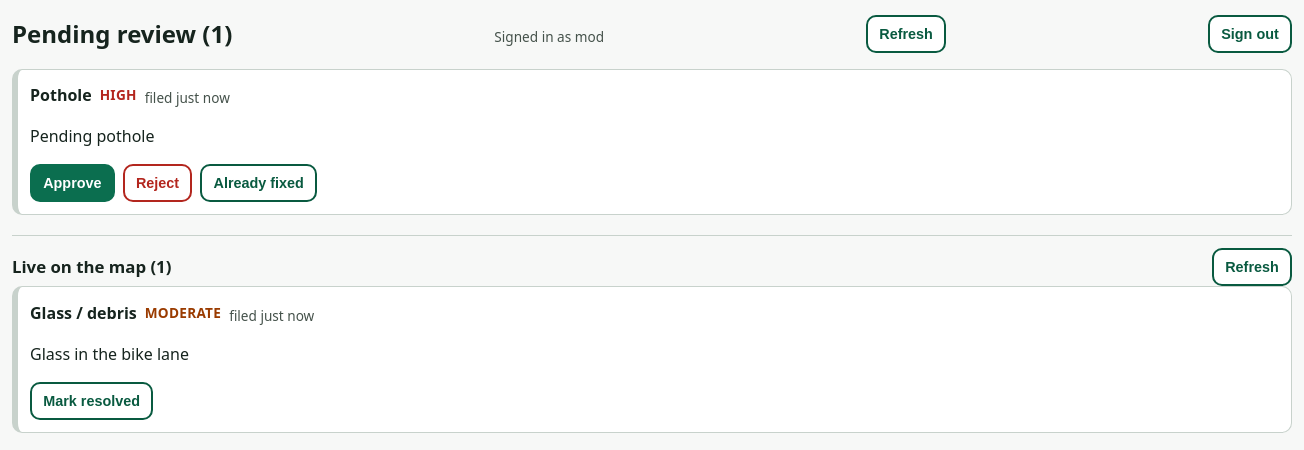
Test case: ModerationPanel — resolve (#140) › offers "Already fixed" on a PENDING report too (pending → resolved is legal)
Expected: the text "Pending pothole" is shown, 30,125 -> 154,147
Click the button "Already fixed": (259, 183) 200,164 -> 317,202
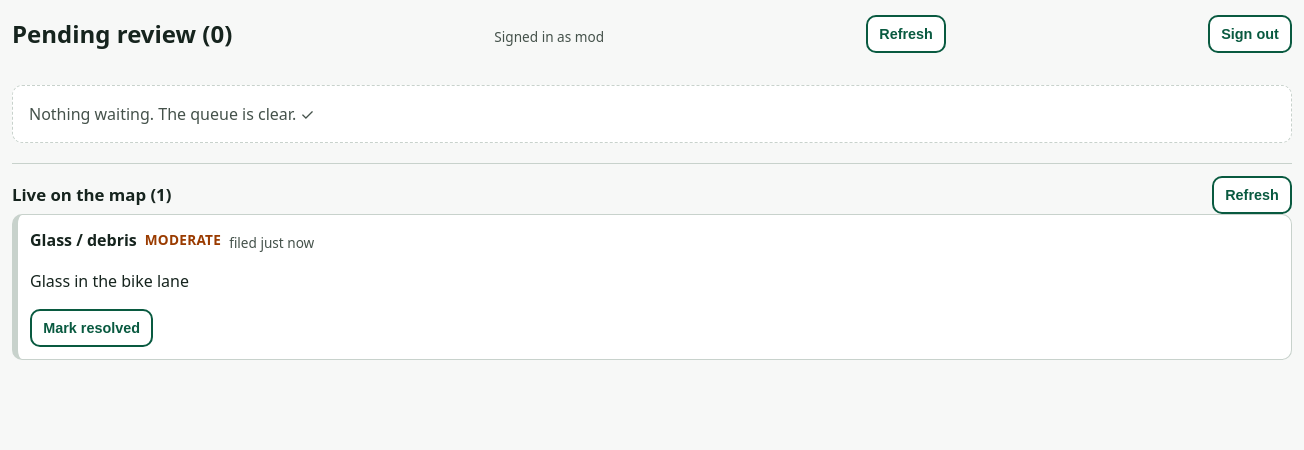
Expected: the text "Nothing waiting. The queue is clear. ✓" is shown, 12,85 -> 1292,143
Expected: the heading "Pending review (0)" is shown, 12,20 -> 232,49
